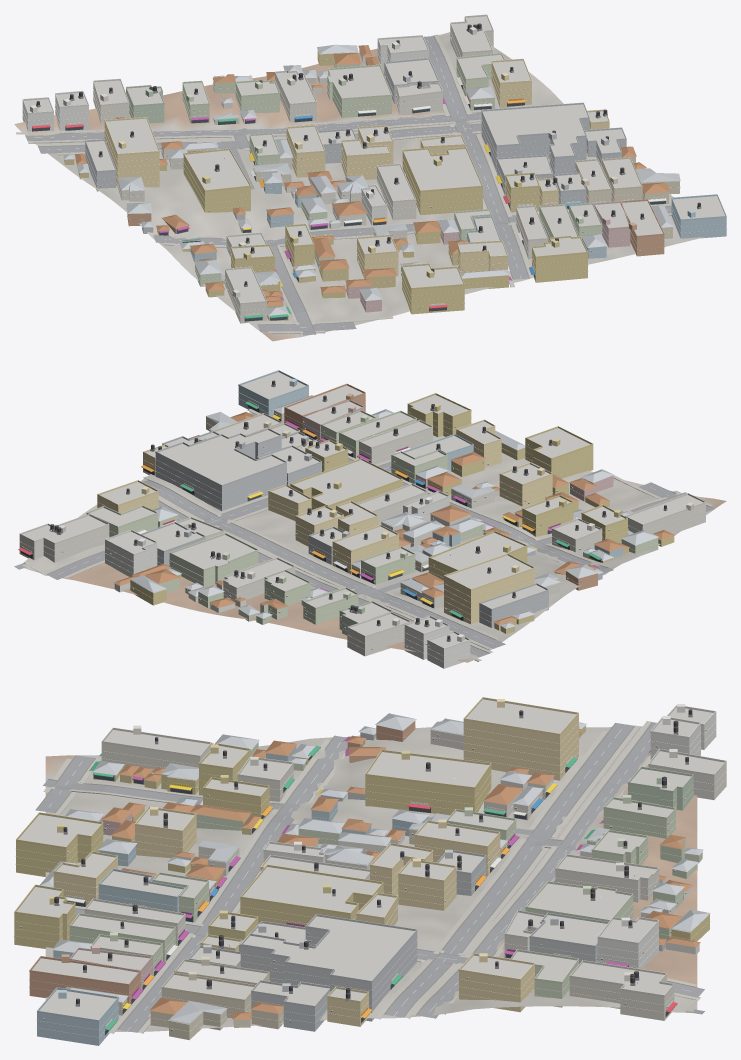
The picture shows the model from 3 angles, top to bottom: view 1: azimuth 30°, elevation 25°; view 2: azimuth 150°, elevation 25°; view 3: azimuth 270°, elevation 25°; orthographic projection. The views are drawn at different scales.
Visible parts, largest first — view 1: Buildings-col, Details, Terrain-col, Roads-col, Sidewalks-col; view 2: Buildings-col, Details, Terrain-col, Roads-col, Sidewalks-col; view 3: Buildings-col, Details, Terrain-col, Roads-col, Sidewalks-col.
Boxes of the visible parts, left/top/right/bottom form: Buildings-col: left=22, top=16, right=726, bottom=323; Details: left=22, top=14, right=726, bottom=321; Terrain-col: left=14, top=32, right=704, bottom=341; Roads-col: left=25, top=36, right=671, bottom=335; Sidewalks-col: left=16, top=33, right=671, bottom=335; Buildings-col: left=19, top=372, right=705, bottom=668; Details: left=18, top=370, right=705, bottom=662; Terrain-col: left=22, top=412, right=726, bottom=662; Roads-col: left=14, top=413, right=714, bottom=657; Sidewalks-col: left=24, top=409, right=712, bottom=661; Buildings-col: left=14, top=699, right=726, bottom=1045; Details: left=14, top=697, right=726, bottom=1037; Terrain-col: left=45, top=726, right=697, bottom=1031; Roads-col: left=35, top=722, right=704, bottom=1032; Sidewalks-col: left=43, top=721, right=700, bottom=1033.
Size of the model in its own units: 272 by 35.08 by 280.
